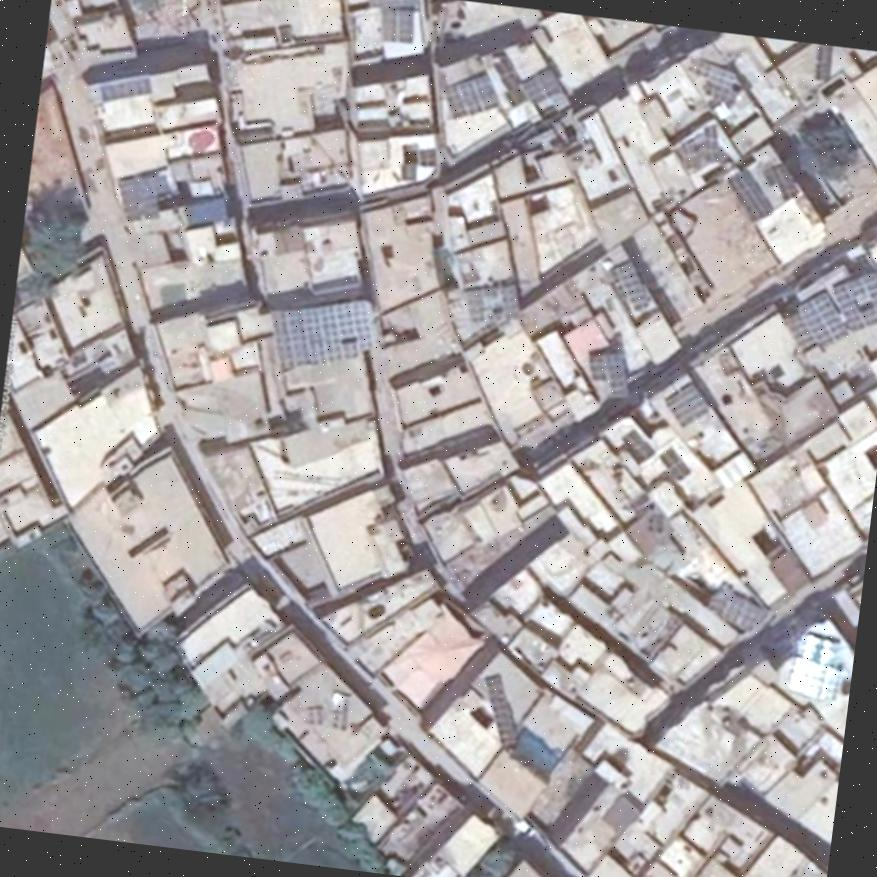Solarpanel: (272, 298, 378, 367), (794, 273, 877, 347), (443, 72, 498, 117), (484, 675, 517, 747), (790, 656, 842, 701), (712, 588, 764, 631), (728, 171, 772, 221), (665, 383, 708, 425), (591, 352, 627, 400), (524, 67, 562, 103), (618, 265, 647, 309), (383, 8, 414, 43), (816, 43, 832, 82)
